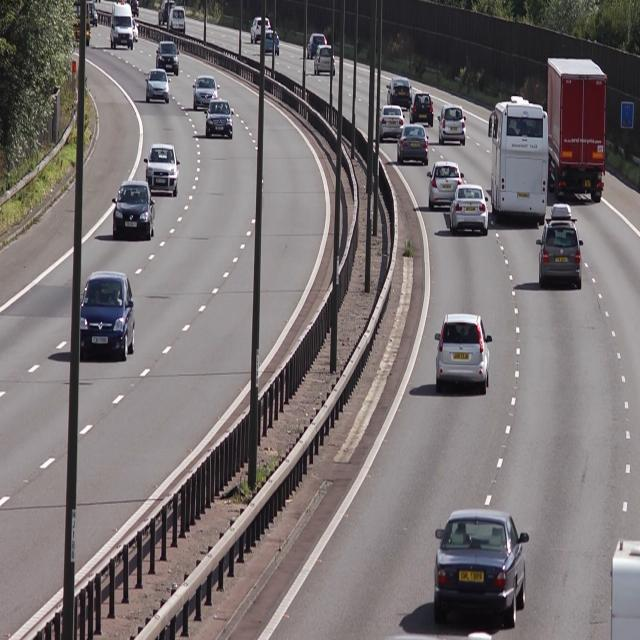Vehicle: (431, 507, 526, 622), (544, 54, 608, 205), (488, 93, 548, 223), (73, 270, 135, 366), (432, 314, 492, 395), (535, 200, 583, 294), (110, 181, 153, 240), (450, 181, 490, 235), (426, 158, 464, 211), (144, 142, 178, 197), (396, 120, 430, 165), (204, 97, 232, 140), (436, 105, 466, 143), (108, 6, 133, 49), (142, 67, 170, 104), (408, 88, 435, 126), (191, 76, 217, 111), (154, 41, 179, 76), (377, 105, 404, 137), (386, 75, 410, 108), (314, 43, 334, 77), (166, 7, 185, 33)
